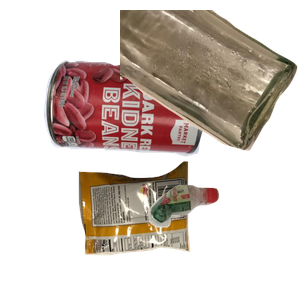glass: (120, 10, 300, 153)
metal: (41, 58, 240, 207)
plastic: (146, 182, 300, 300)
trash: (76, 159, 259, 300)
